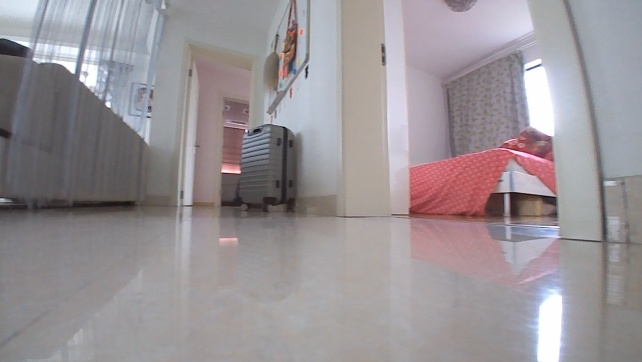bed: (409, 145, 560, 220)
door_anno: (175, 42, 201, 208)
sofa1: (0, 52, 146, 208)
